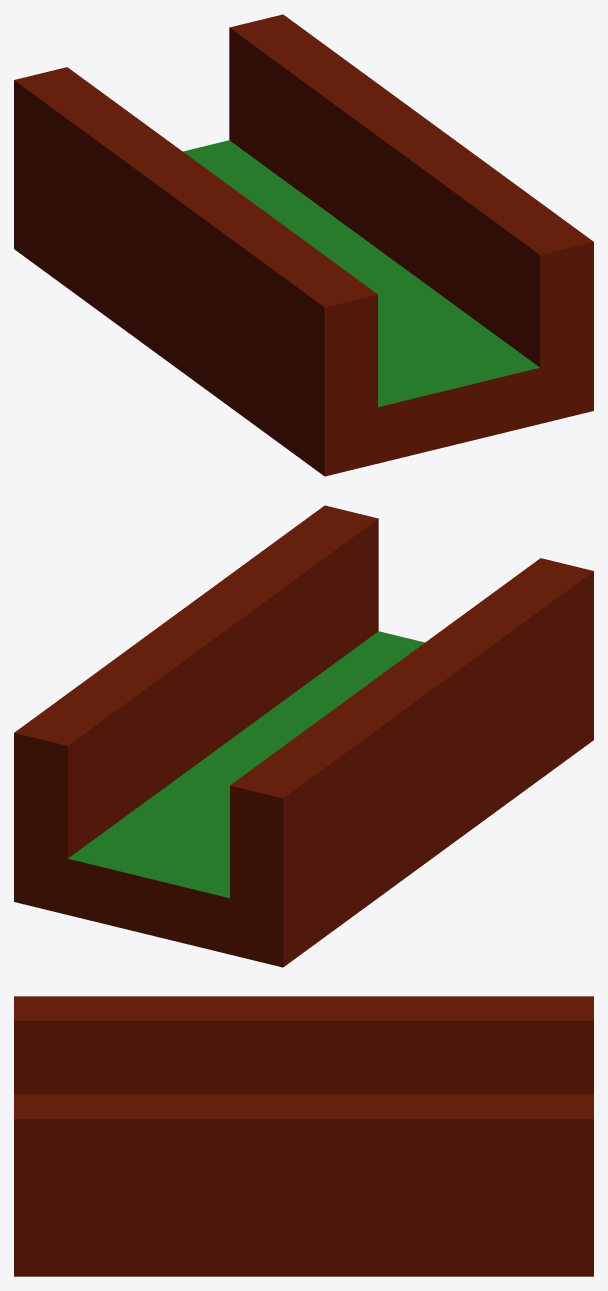
Rendered from StraightThin.obj.
The picture shows the model from 3 angles, top to bottom: view 1: azimuth 30°, elevation 25°; view 2: azimuth 150°, elevation 25°; view 3: azimuth 270°, elevation 25°; orthographic projection. The views are drawn at different scales.
Visible parts, largest first — view 1: StraightThin; view 2: StraightThin; view 3: StraightThin.
Part boxes in pixels (bbox=[...]): StraightThin: bbox=[14, 14, 593, 476]; StraightThin: bbox=[14, 505, 593, 967]; StraightThin: bbox=[14, 996, 593, 1276].
Size of the model in its own units: 1 by 0.6 by 2.
